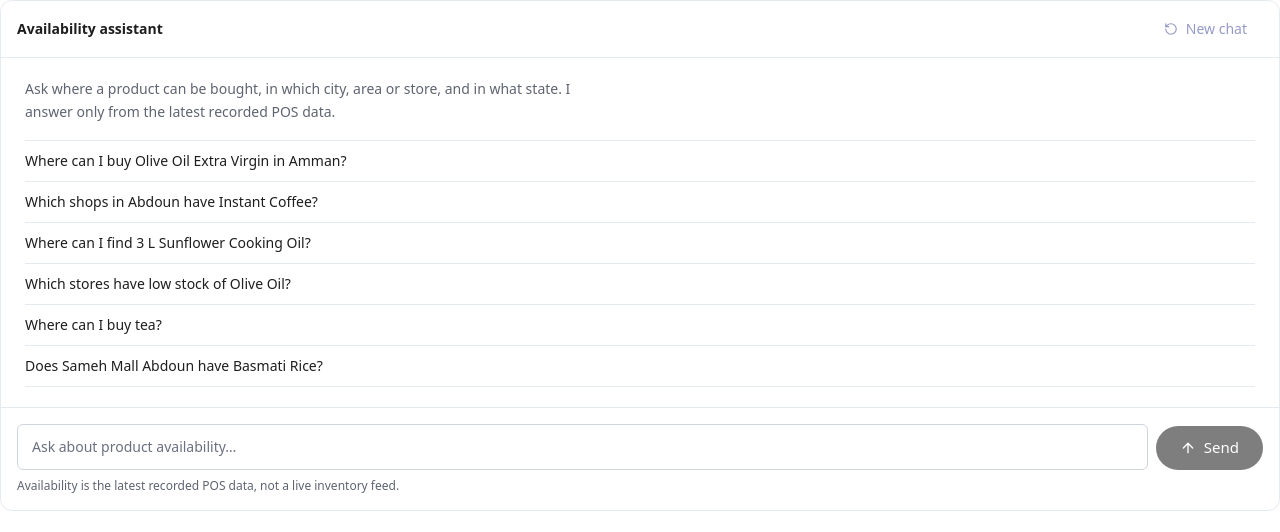
Scenario: ChatPanel streaming (English) › warns when a summary could not be verified
The image size is (1280, 532).
In the text box named "Your question": (582, 446) [17,424,1148,470], type "Where is olive oil?"
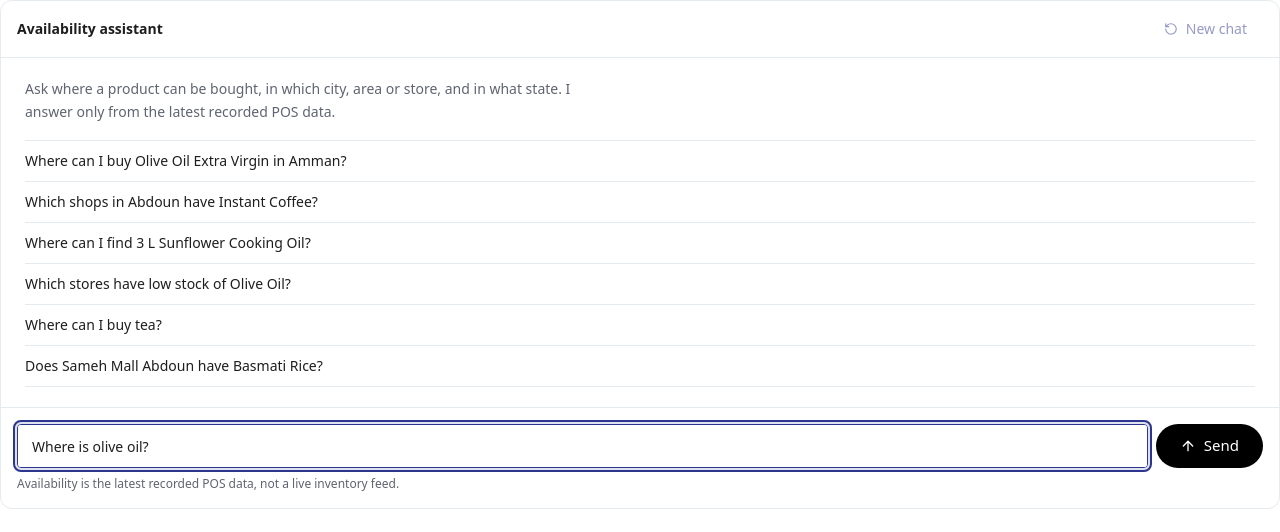
Press Enter
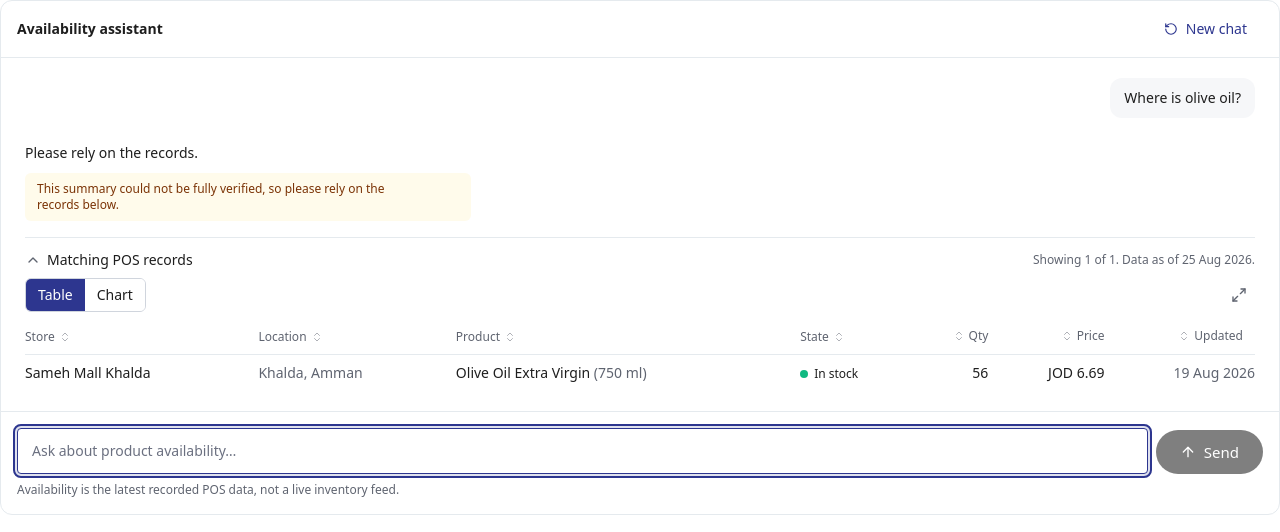
Now the text "This summary could not be fully verified, so please rely on the records below." is shown, box [25,173,471,221]
